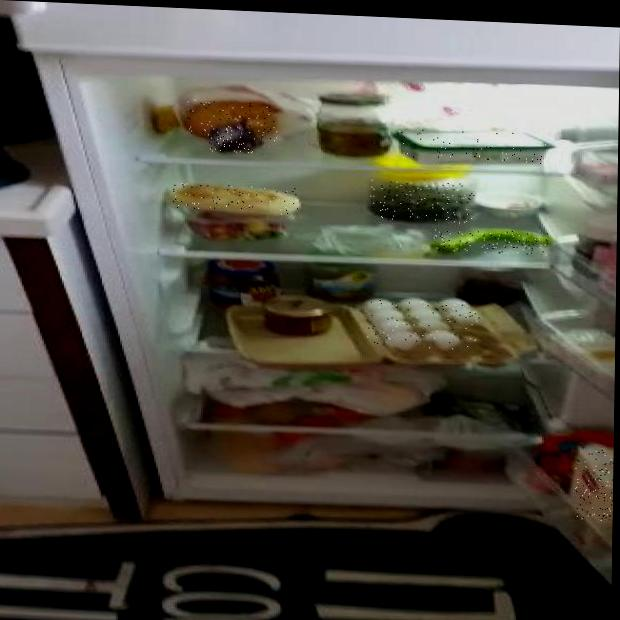bread: (173, 183, 301, 215), (186, 99, 279, 141)
cream cheese: (396, 128, 547, 166)
eggs: (366, 298, 480, 351)
green chilies: (431, 227, 548, 255)
milk: (575, 447, 614, 523)
olives: (368, 179, 476, 224)
red onion: (209, 122, 258, 153)
